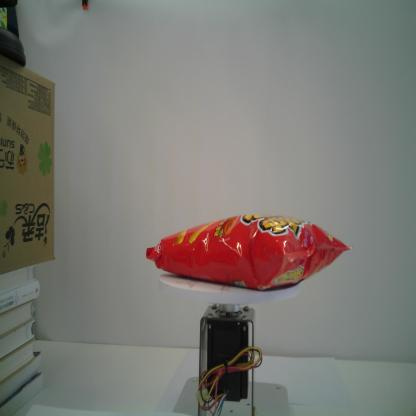Puffed Food: (145, 211, 356, 292)
